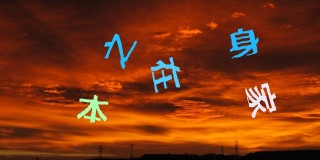之: (103, 32, 138, 68)
在: (151, 56, 180, 92)
家: (244, 82, 278, 119)
本: (77, 94, 108, 123)
身: (229, 27, 260, 59)
